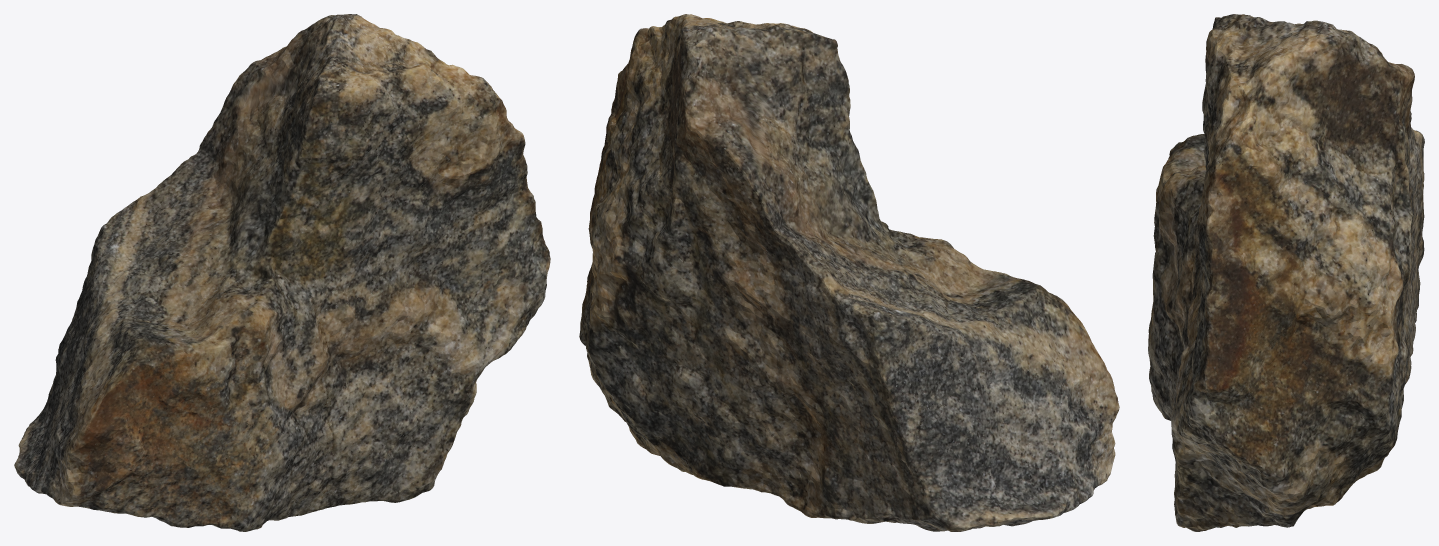
3 views of the same model, side by side, from view 1: azimuth 30°, elevation 25°; view 2: azimuth 150°, elevation 25°; view 3: azimuth 270°, elevation 25° (orthographic). The views are drawn at different scales.
Size of the model in its own units: 2.72 by 2.36 by 1.18.
Materials: 1 (1 with a texture image).
